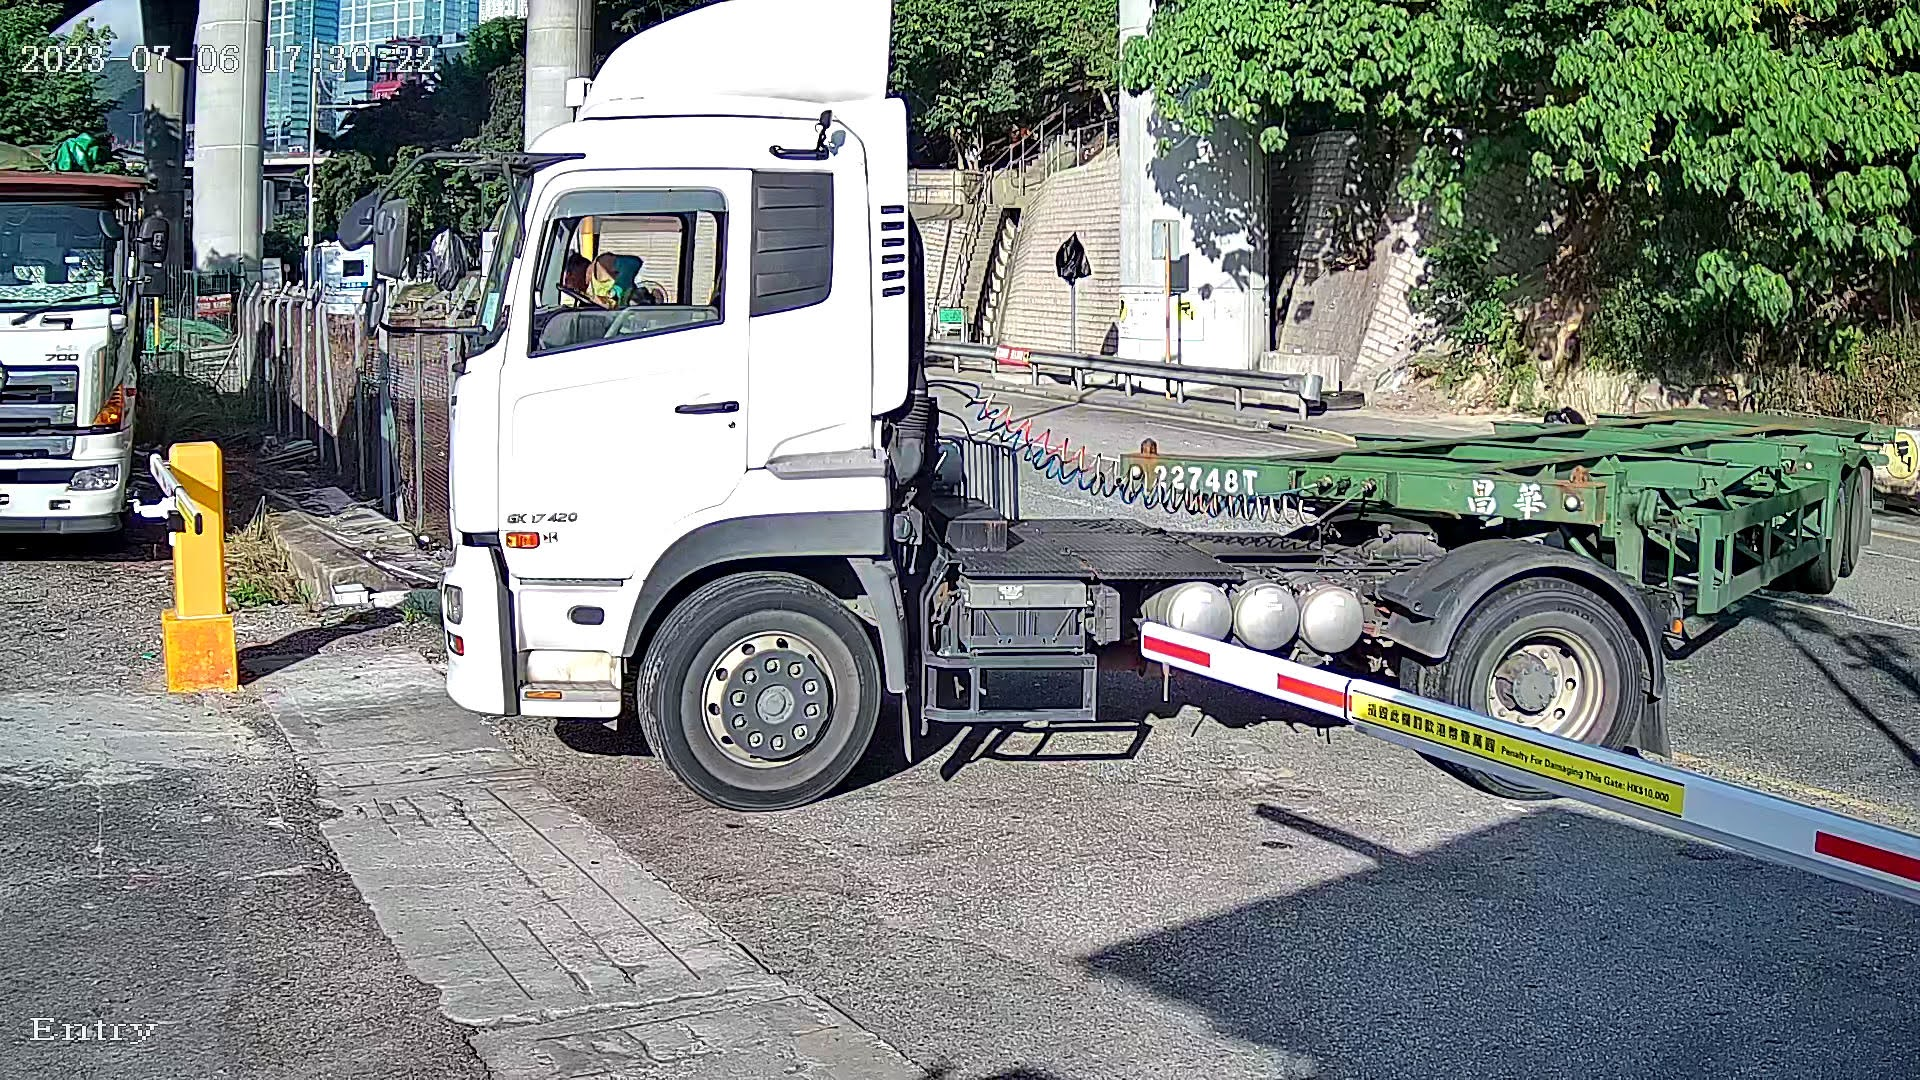truck: (398, 17, 1920, 825)
